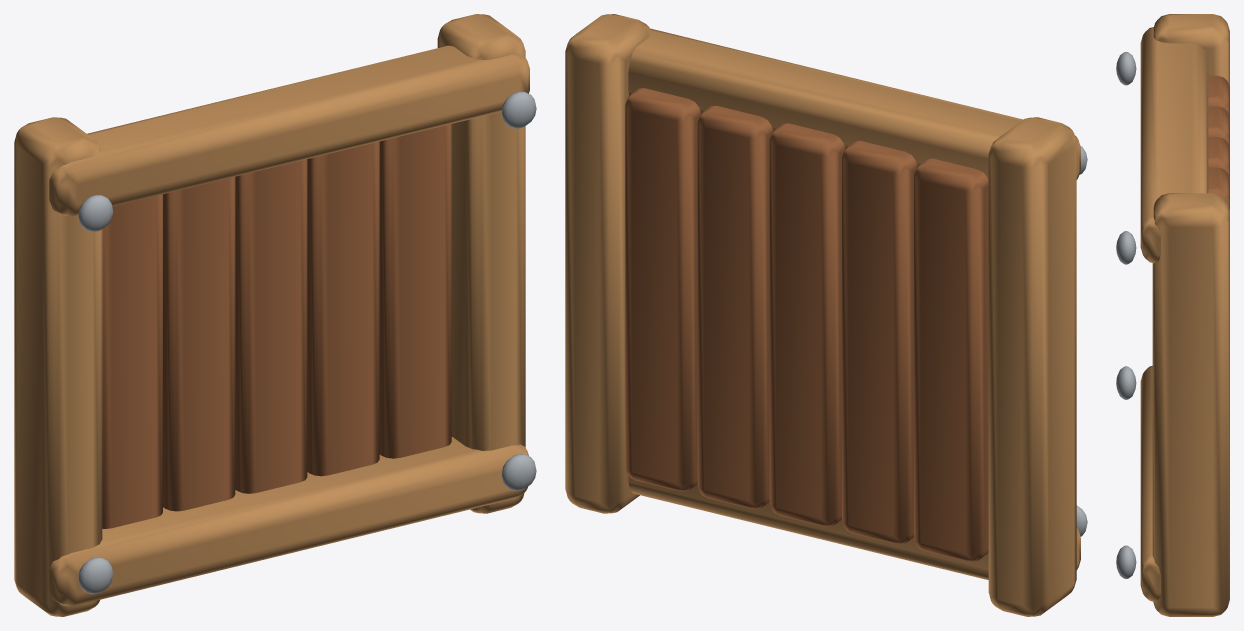
File: clay_hatch.glb
The picture shows the model from 3 angles, left to right: view 1: azimuth 30°, elevation 25°; view 2: azimuth 150°, elevation 25°; view 3: azimuth 270°, elevation 25°; orthographic projection. The views are drawn at different scales.
Parts seen in each view (by area): view 1: clay_hatch; view 2: clay_hatch; view 3: clay_hatch.
Part boxes in pixels (box(x1,y1,x2,y2)): clay_hatch: box(14, 14, 536, 616); clay_hatch: box(565, 14, 1087, 616); clay_hatch: box(1116, 14, 1229, 616).
Size of the model in its own units: 1 by 0.94 by 0.236.
